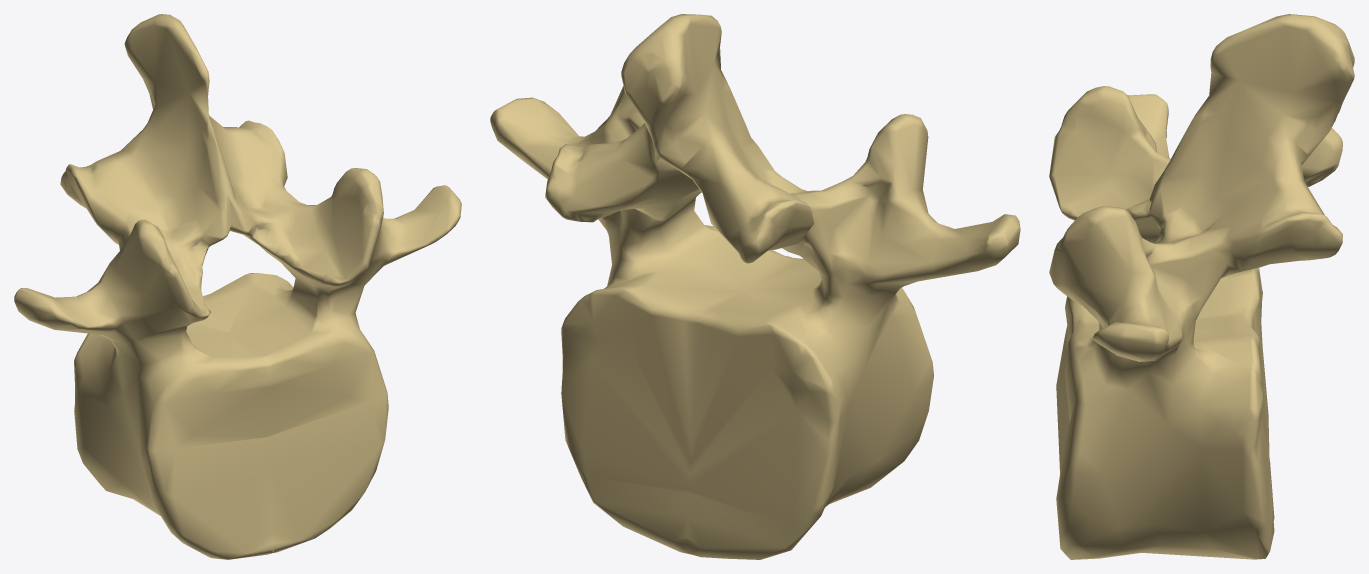
The picture shows the model from 3 angles, left to right: view 1: azimuth 30°, elevation 25°; view 2: azimuth 150°, elevation 25°; view 3: azimuth 270°, elevation 25°; orthographic projection. The views are drawn at different scales.
Parts seen in each view (by area): view 1: 第三腰椎; view 2: 第三腰椎; view 3: 第三腰椎.
Part boxes in pixels (x1,y1,x2,y2): 第三腰椎: [14, 14, 461, 559]; 第三腰椎: [490, 14, 1020, 559]; 第三腰椎: [1049, 14, 1354, 559].
Bounding box in the file's own units: 0.123 × 0.1252 × 0.0659.
